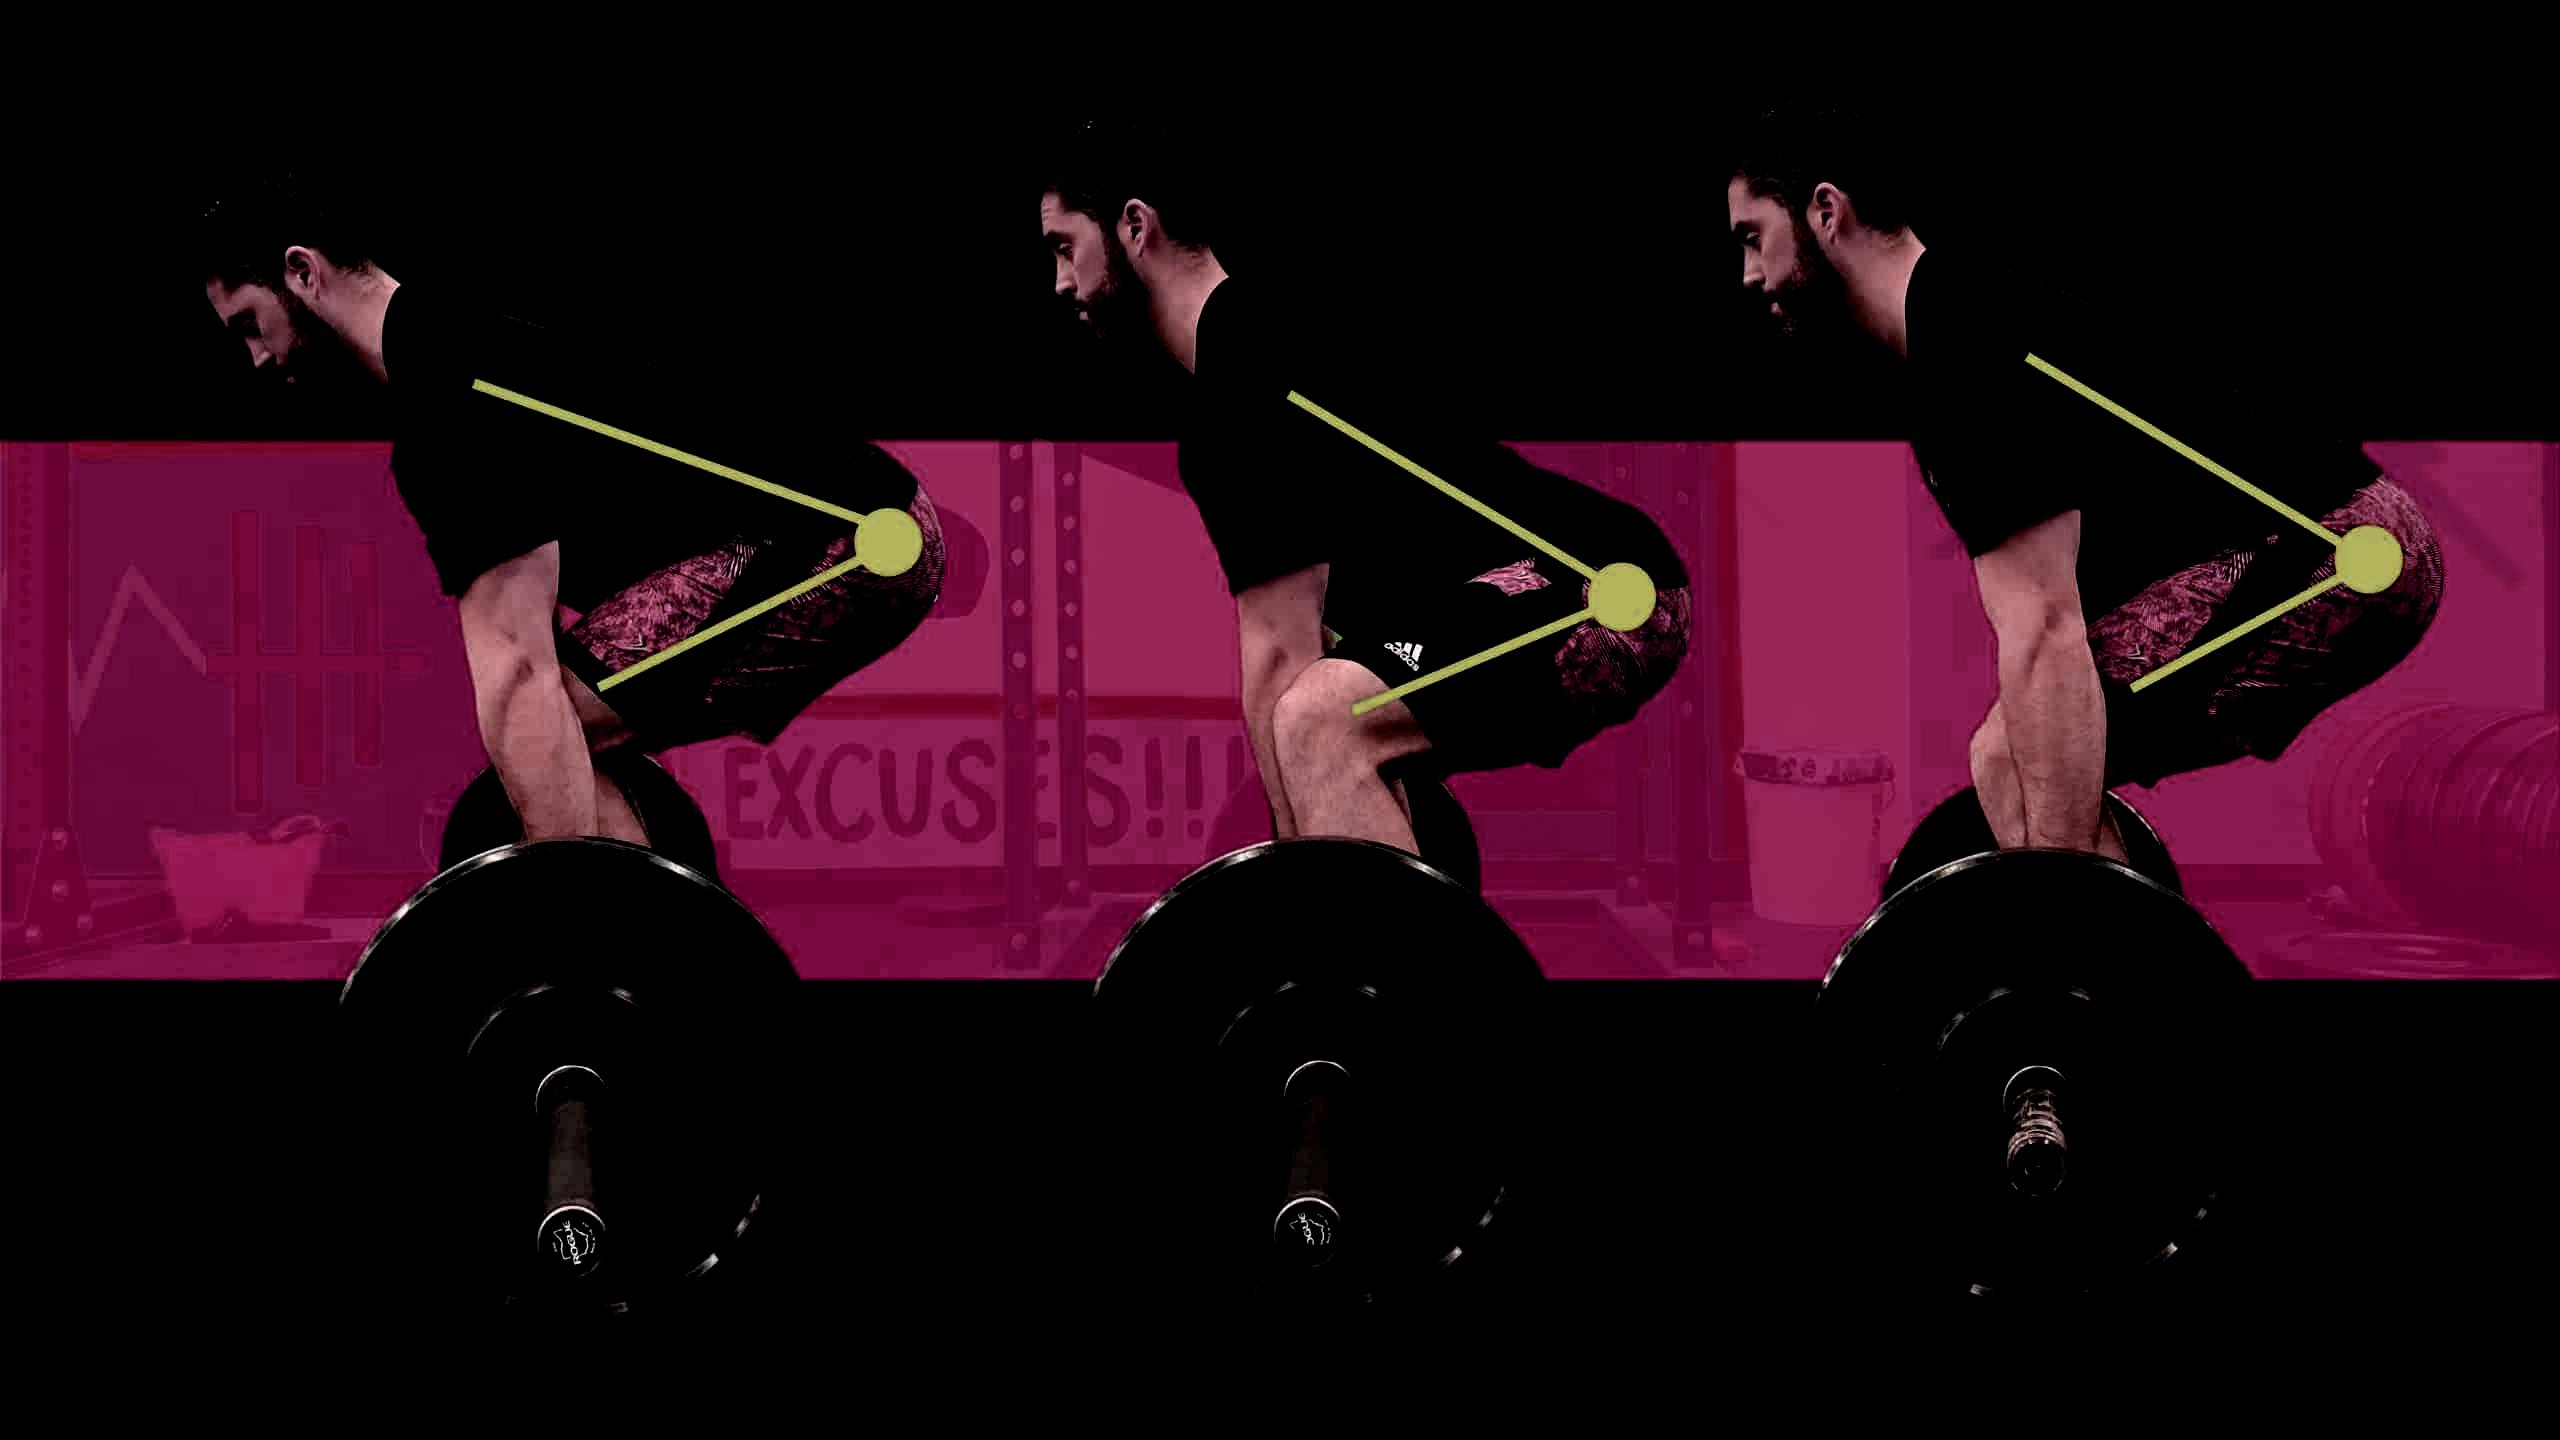Barbell: (1271, 1190, 1354, 1282), (536, 1197, 619, 1289), (2003, 1125, 2078, 1204)
